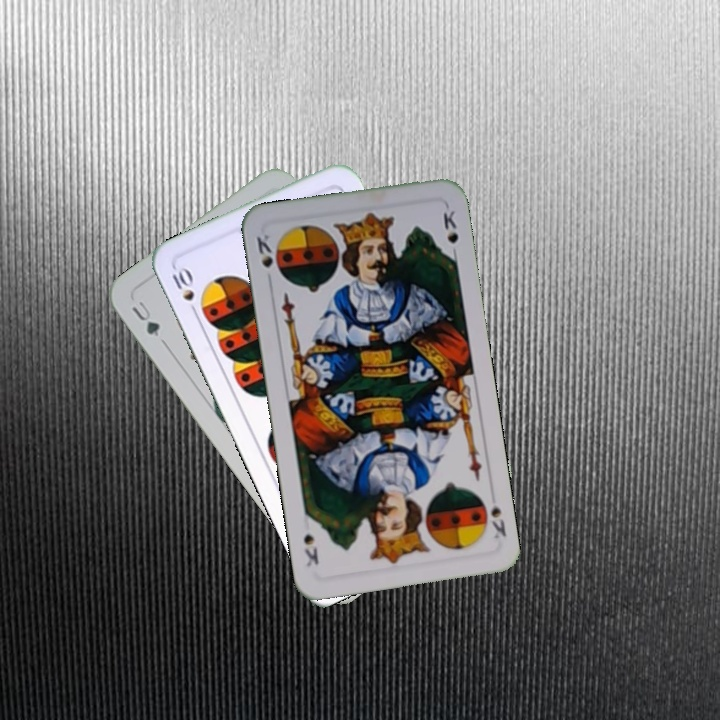GU: (127, 297, 163, 340)
S10: (168, 263, 207, 319)
SK: (252, 229, 276, 287), (487, 501, 509, 541)
